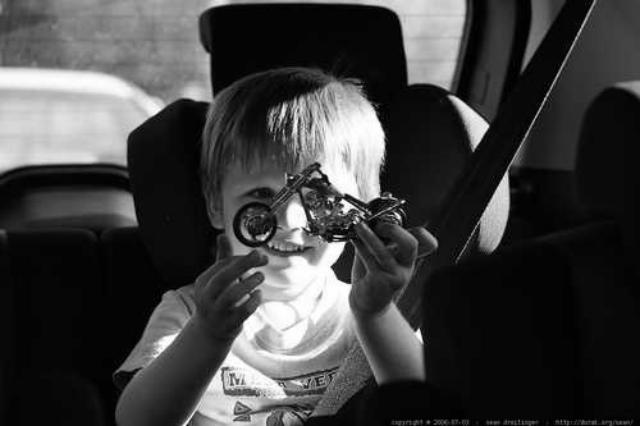Seatbelt: (304, 0, 602, 422)
